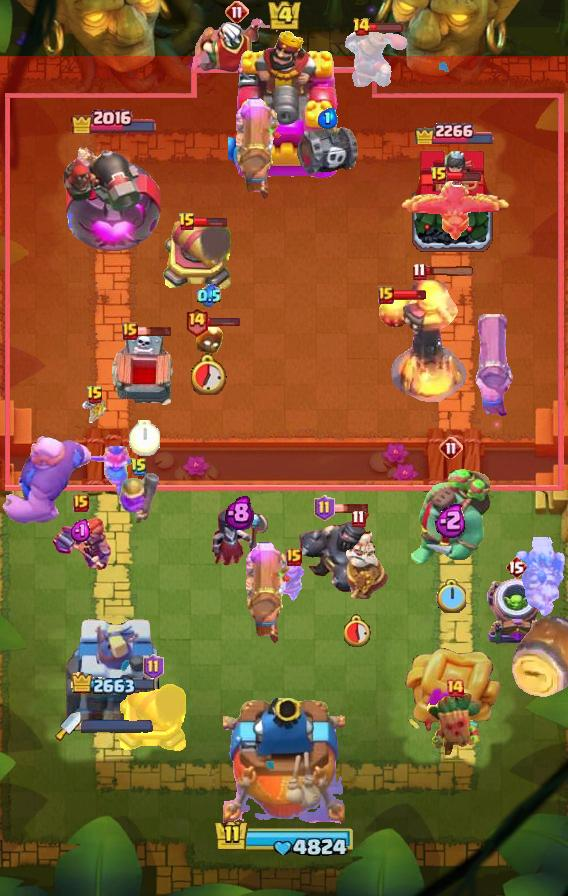balloon: (0, 434, 94, 526)
bar: (66, 611, 162, 731)
battle-healer: (235, 98, 281, 202), (470, 314, 516, 418), (245, 542, 291, 646)
bomb-tower: (118, 473, 160, 525)
bomber: (194, 327, 224, 355)
cannon: (277, 557, 311, 603)
clock: (210, 818, 358, 860)
dirt: (509, 613, 567, 699)
electro-dragon: (389, 277, 469, 405)
electro-spirit: (436, 502, 469, 538), (225, 495, 254, 530), (197, 284, 221, 308), (70, 519, 92, 543), (318, 107, 338, 128)
elixir: (191, 353, 227, 395), (129, 420, 159, 456), (436, 579, 466, 613), (344, 614, 372, 646)
elixir-collector: (324, 530, 392, 604)
elixir-golem-big: (342, 28, 410, 92)
elixir-golem-mid: (109, 328, 179, 414)
emote: (424, 266, 476, 277), (136, 325, 173, 337), (333, 502, 370, 514), (368, 22, 404, 34), (391, 289, 427, 301), (446, 170, 481, 182), (206, 316, 241, 328), (193, 216, 226, 228)
goblin-barrel: (426, 692, 484, 756)
goblin-cage: (484, 577, 548, 647)
golden-knight: (400, 177, 510, 243)
heal-spirit: (81, 393, 109, 427)
hog: (379, 291, 413, 329)
hog-rider: (86, 444, 134, 498)
king-tower: (228, 29, 340, 181), (223, 698, 345, 826)
king-tower-bar: (81, 719, 153, 733)
lava-hound: (408, 461, 494, 567)
mini-pekka: (512, 537, 568, 621)
queen-tower: (410, 144, 496, 255)
rascal-boy: (209, 505, 269, 575)
royal-guardian: (296, 508, 378, 596)
royal-recruit: (162, 220, 234, 294), (117, 682, 189, 756)
royal-recruit-evolution: (297, 121, 359, 177)
selected: (70, 106, 158, 134), (70, 672, 157, 698), (412, 116, 494, 143)
skeleton-king: (189, 9, 285, 77)
tesla-evolution: (49, 517, 113, 573)
text: (183, 307, 208, 337), (225, 0, 249, 24), (439, 436, 463, 460), (314, 495, 335, 521), (144, 654, 165, 680), (505, 555, 527, 579), (352, 17, 372, 37), (445, 678, 465, 698), (430, 166, 448, 186), (178, 212, 196, 232), (86, 385, 104, 405), (130, 457, 148, 477), (378, 286, 394, 304), (122, 322, 138, 340), (73, 494, 89, 512), (286, 548, 302, 566), (413, 262, 428, 281), (351, 509, 366, 527)
tower-bar: (63, 136, 165, 256)
